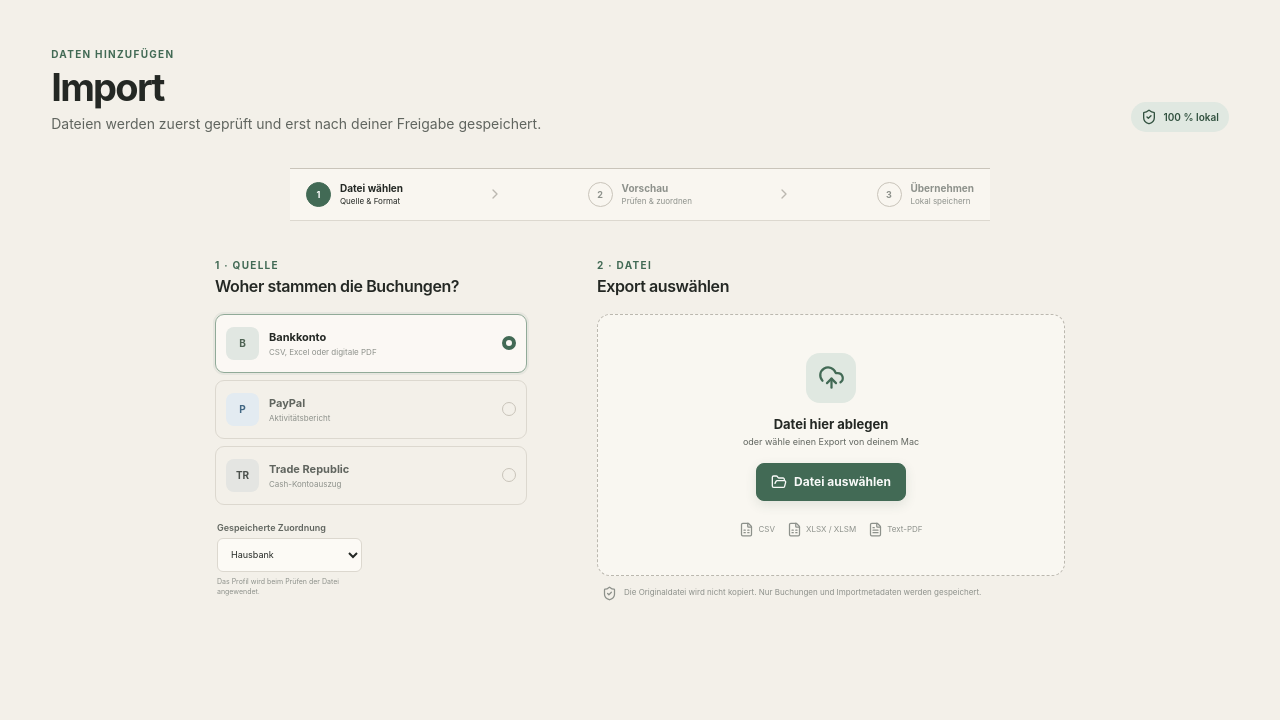
Test: ImportView native mapping flow › wendet ein gespeichertes Profil beim nativen Öffnen an
The width and height of the screenshot is (1280, 720).
Expected: the dropdown labelled "Gespeicherte Zuordnung" shows "Hausbank", x1=217 y1=538 x2=362 y2=572
Click the button "Datei auswählen".
click(831, 482)  # box x1=756 y1=463 x2=906 y2=501
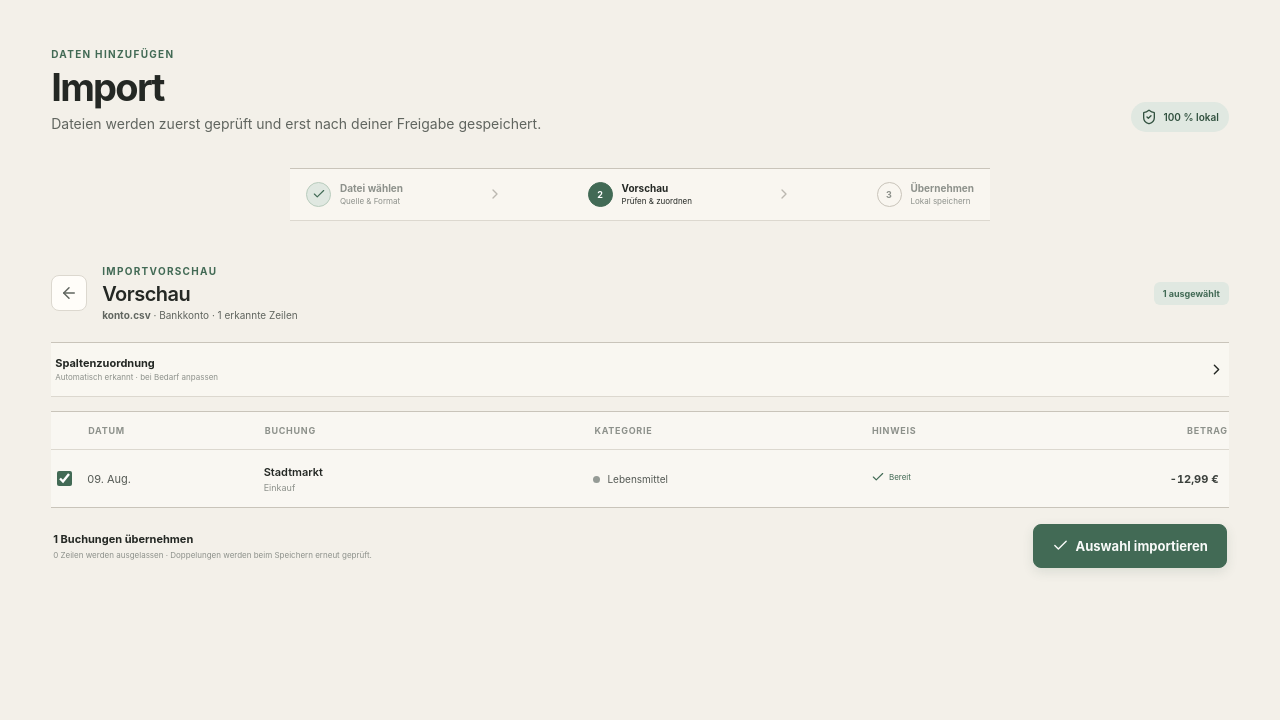
Expected: the text "konto.csv" is shown, x1=102 y1=309 x2=151 y2=321
